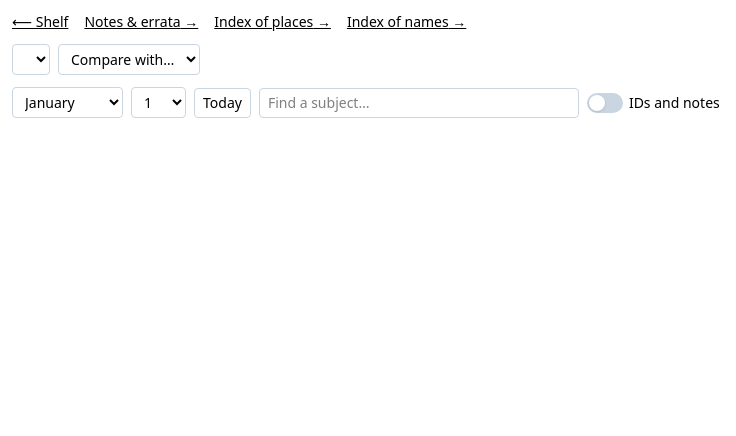
Scenario: ReaderBar's subject search › lists at most fifty suggestions
This screenshot has width=736, height=436.
Type "sanctus" into the dropdown named "Find a eulogy by subject" at point(419, 102), box [259,88,579,118]
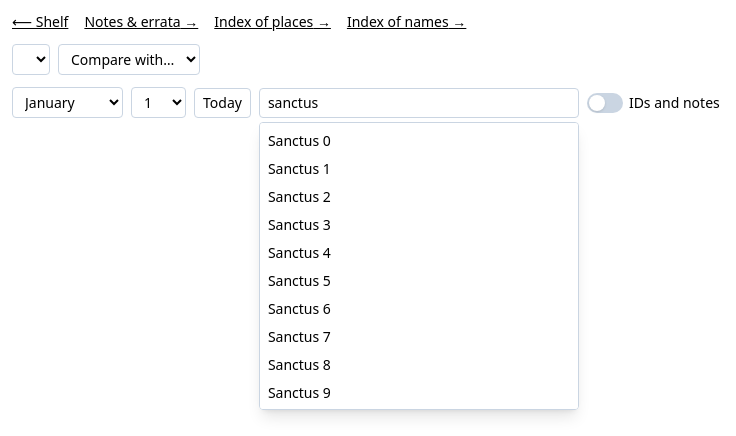
Check: the option "Sanctus 0" is shown, box [268,130,331,150]
